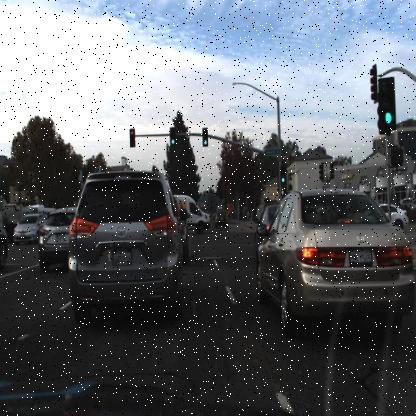car: (254, 185, 409, 331), (66, 160, 188, 328), (37, 204, 73, 273), (174, 194, 212, 236), (11, 210, 45, 246), (375, 201, 409, 232), (252, 201, 270, 250), (375, 204, 409, 228), (198, 207, 202, 219)
trafficLight: (380, 78, 401, 138), (200, 122, 210, 152), (167, 124, 177, 148), (127, 130, 136, 152), (279, 169, 287, 192), (169, 130, 177, 152), (201, 128, 209, 147)
truck: (1, 200, 39, 242)
